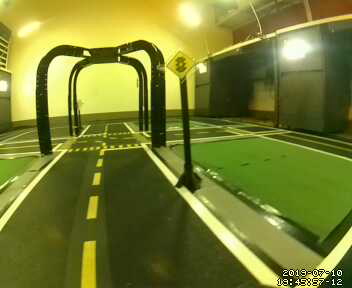Traffic light sign: (166, 49, 198, 80)
